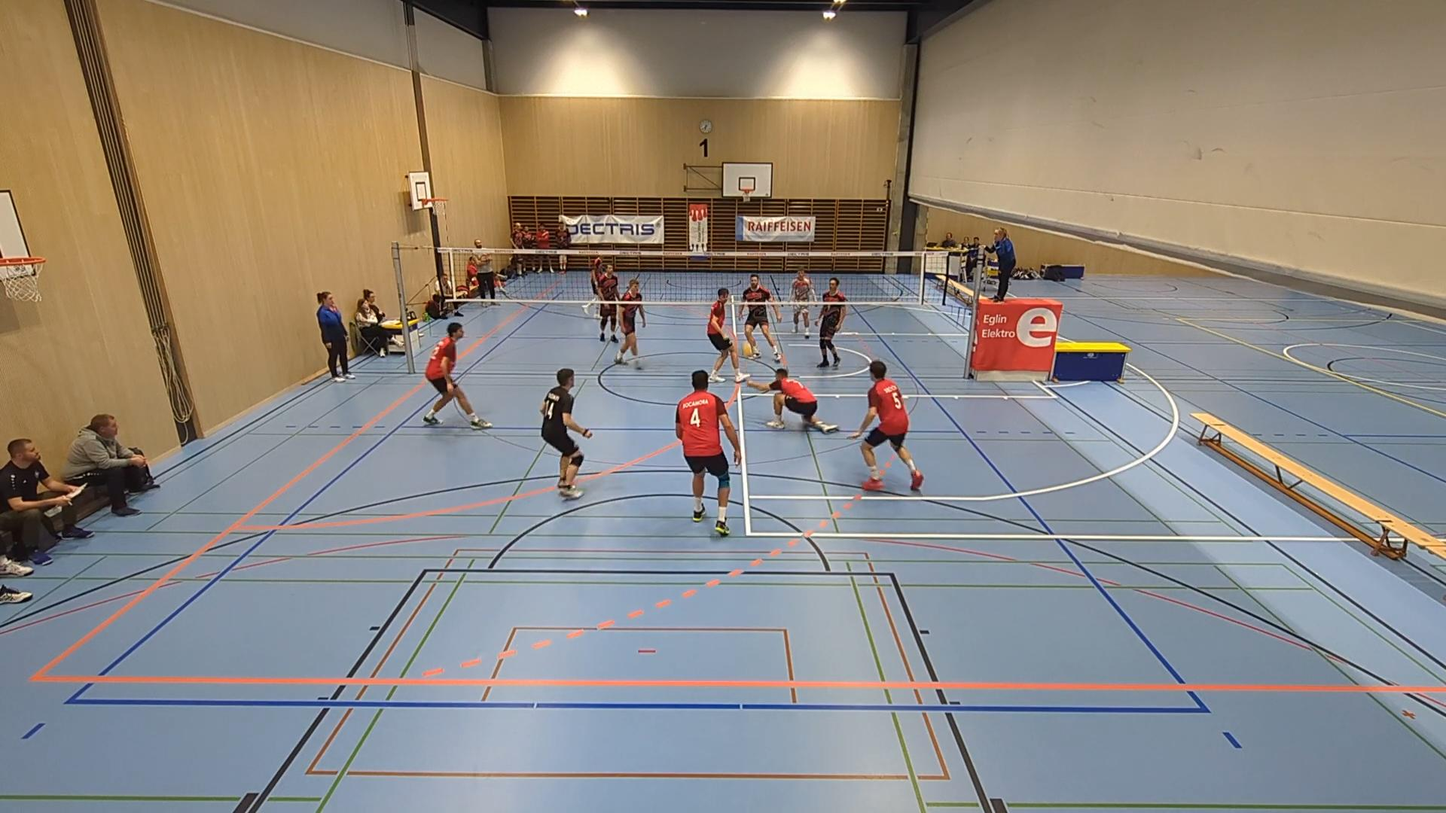difesa: (734, 371, 848, 436)
